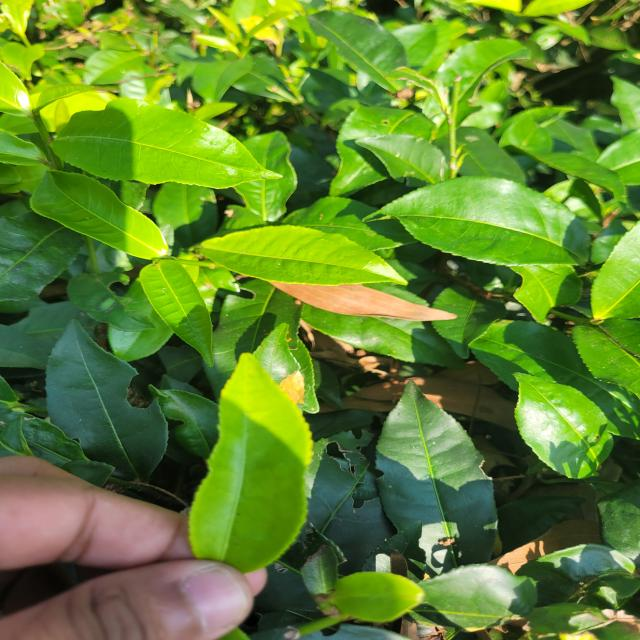Catagory A(1-2 days): (164, 336, 347, 584)
